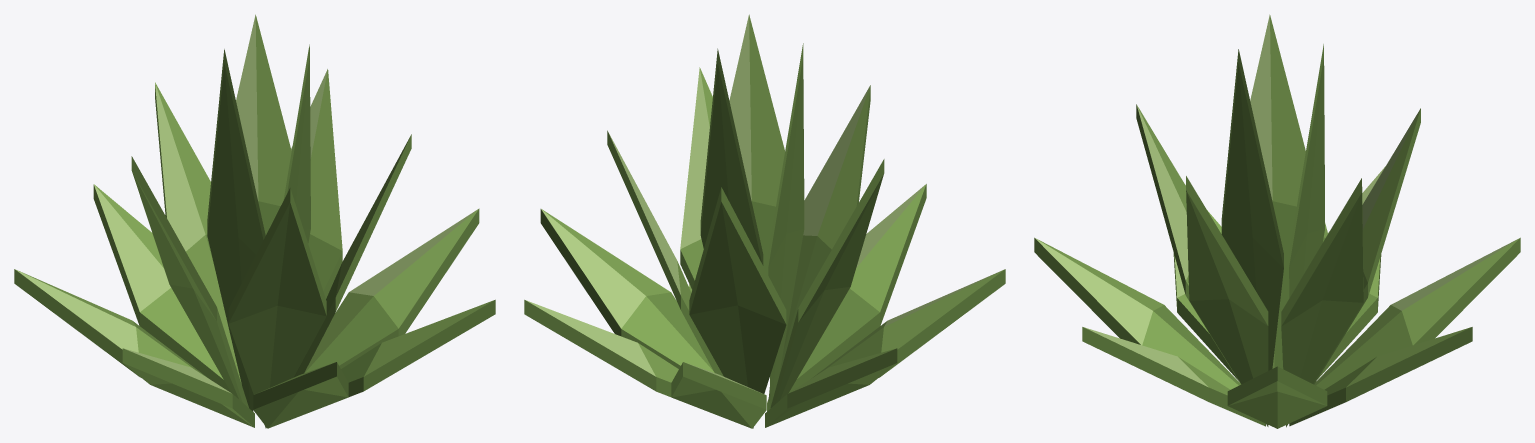
Rendered from aloe_vera_stage_04.fbx.
3 views of the same model, side by side, from view 1: azimuth 30°, elevation 25°; view 2: azimuth 150°, elevation 25°; view 3: azimuth 270°, elevation 25° (orthographic).
Visible parts, largest first — view 1: aloe_vera_stage_04; view 2: aloe_vera_stage_04; view 3: aloe_vera_stage_04.
Part boxes in pixels (<box>): aloe_vera_stage_04: <box>14,14,495,428</box>; aloe_vera_stage_04: <box>524,14,1005,428</box>; aloe_vera_stage_04: <box>1034,14,1520,428</box>.
Size of the model in its own units: 1.9 by 1.72 by 1.95.
1 material, 1 textured.
